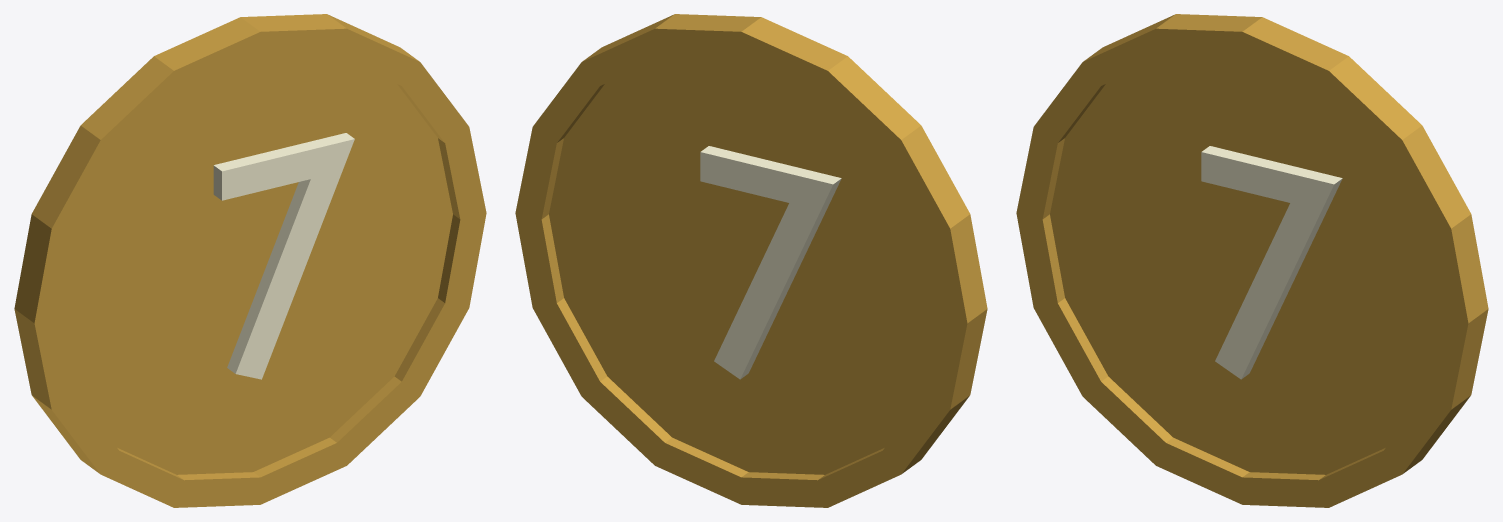
The model's file is Coin7.dae.
3 views of the same model, side by side, from view 1: azimuth 30°, elevation 25°; view 2: azimuth 150°, elevation 25°; view 3: azimuth 330°, elevation 25° (orthographic).
Visible parts, largest first — view 1: Circle_006, Text_009; view 2: Circle_006, Text_015; view 3: Circle_006, Text_009.
Part boxes in pixels (left/top/right/bottom): Circle_006: left=14, top=14, right=486, bottom=507; Text_009: left=213, top=133, right=354, bottom=379; Circle_006: left=515, top=14, right=987, bottom=507; Text_015: left=700, top=146, right=841, bottom=379; Circle_006: left=1016, top=14, right=1488, bottom=507; Text_009: left=1201, top=146, right=1342, bottom=379.
Bounding box in the file's own units: 0.4939 × 0.0429 × 0.4939.
